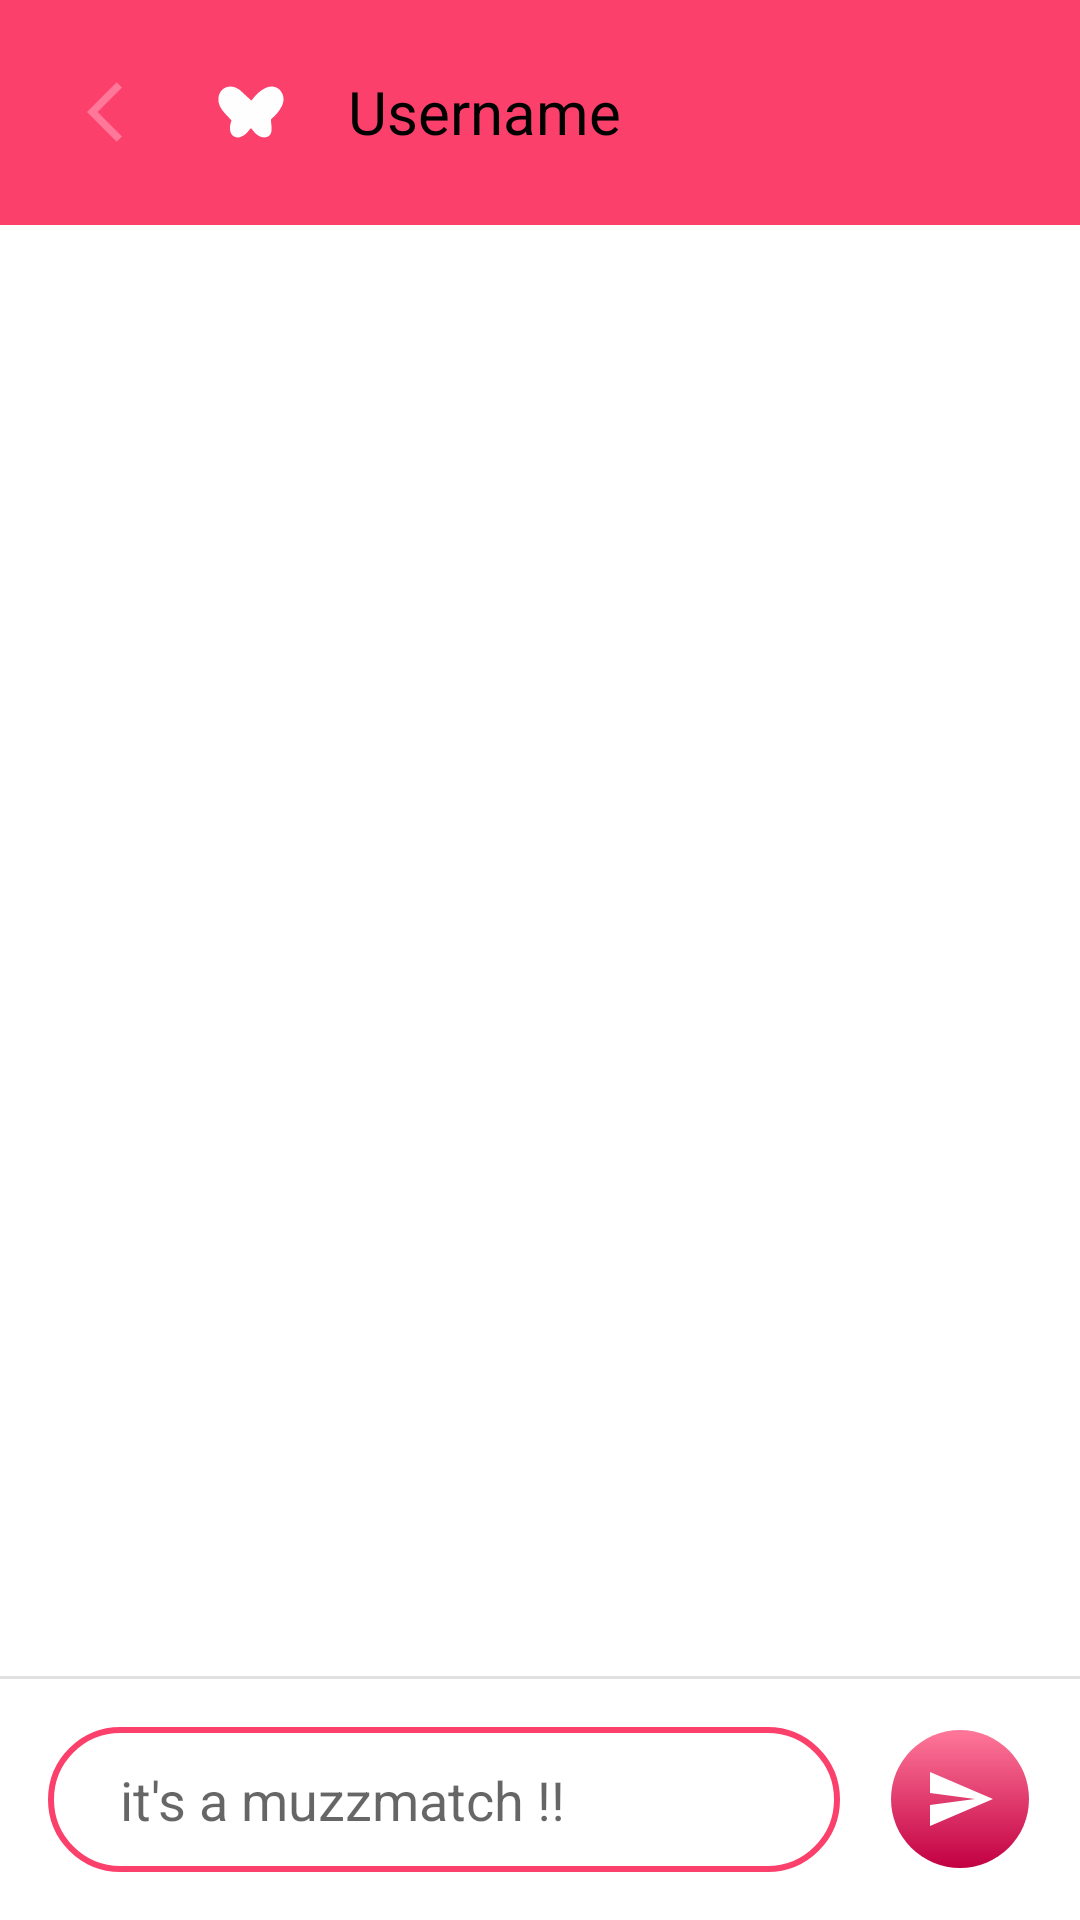

Locate icon controls on the screen. Image size 1080 × 1920, boxes as bbox=(x1, y1, x2, y2).
Back: bbox=(87, 82, 122, 142)
Send Message: bbox=(891, 1730, 1029, 1868)
